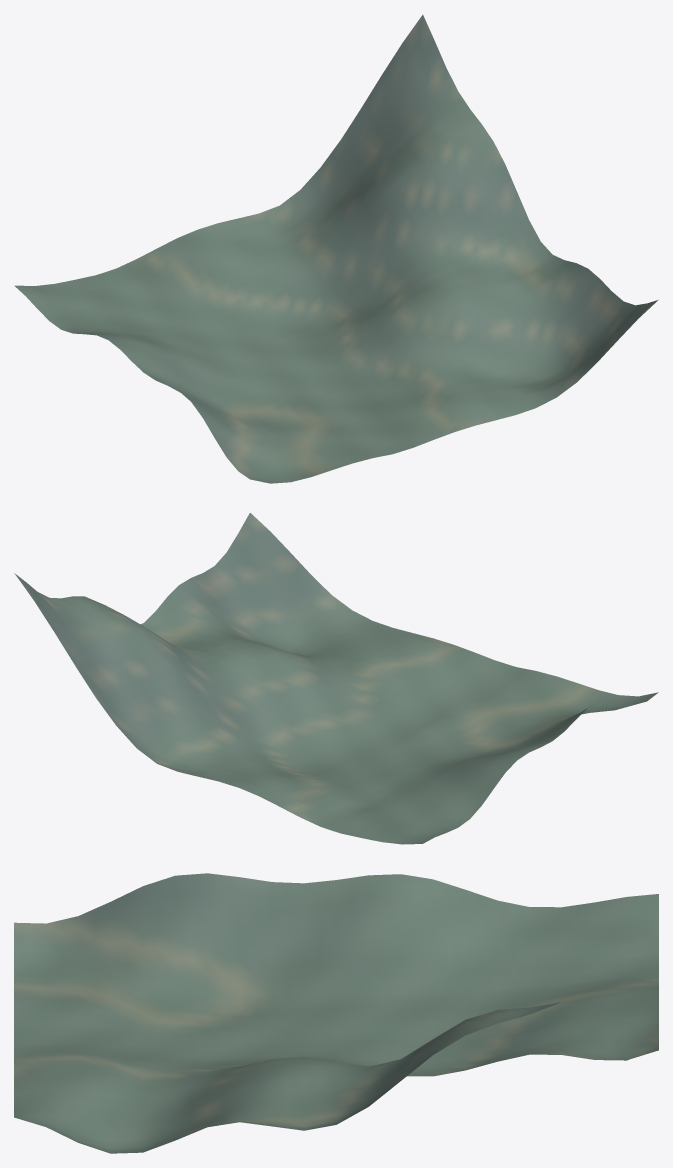
Rendered from ridge_0_-13.glb.
3 views of the same model, one above another, from view 1: azimuth 30°, elevation 25°; view 2: azimuth 150°, elevation 25°; view 3: azimuth 270°, elevation 25° (orthographic). The views are drawn at different scales.
Size of the model in its own units: 220 by 107 by 220.
